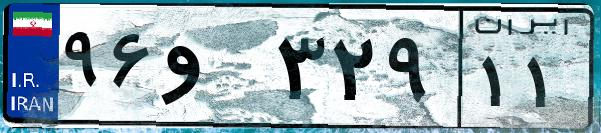1: (475, 38, 525, 113), (525, 38, 570, 115)
2: (330, 28, 385, 110)
3: (270, 28, 330, 110)
6: (110, 28, 158, 98)
9: (385, 28, 445, 110), (57, 26, 110, 100)
و: (158, 20, 270, 120)
